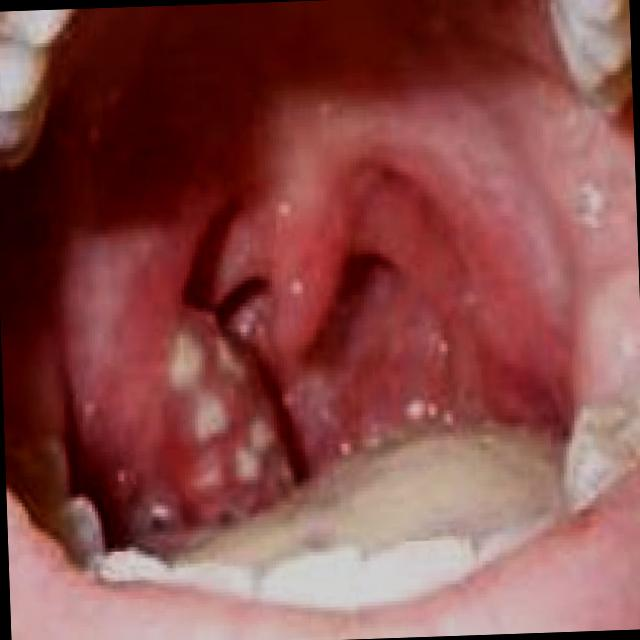pharyngitis: (62, 203, 299, 546)
